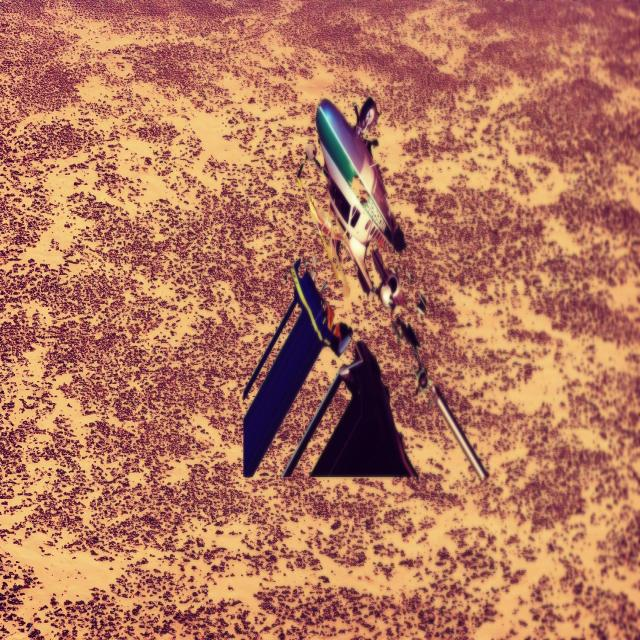airplane: (242, 94, 408, 476)
